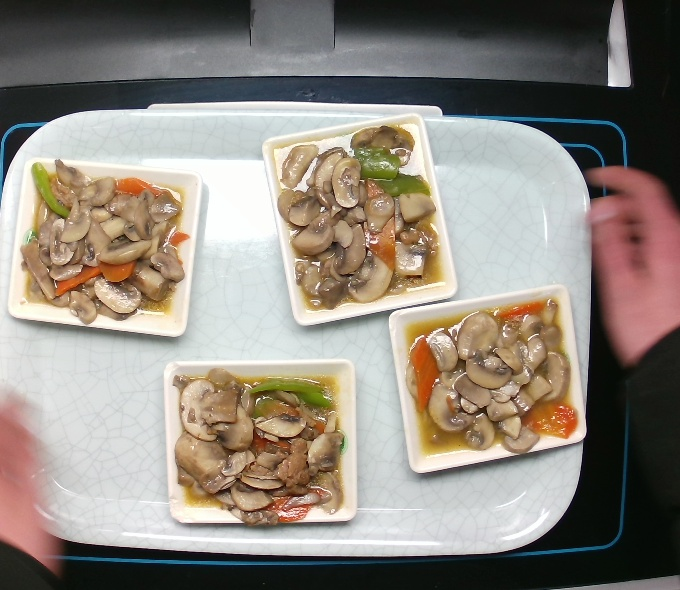wcq-HouTouGuChaoRou: (263, 119, 449, 324), (23, 152, 196, 333), (397, 292, 581, 462), (172, 362, 355, 529)
